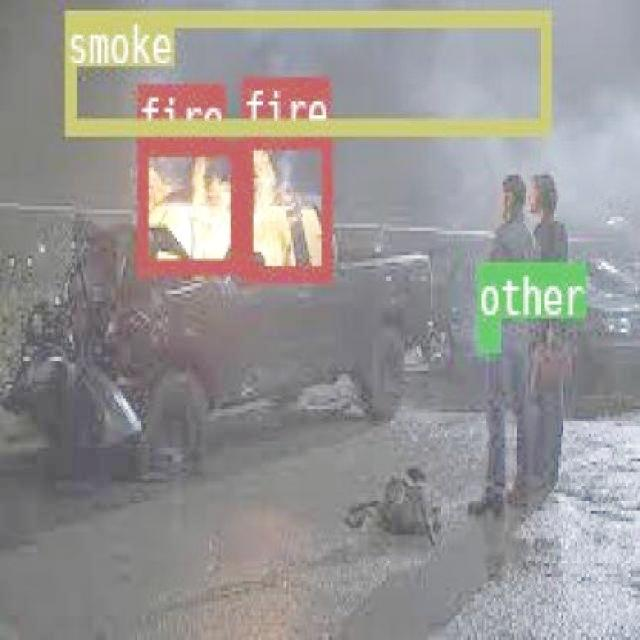fire: (135, 136, 239, 270), (240, 130, 328, 278)
smoke: (63, 8, 548, 132)
